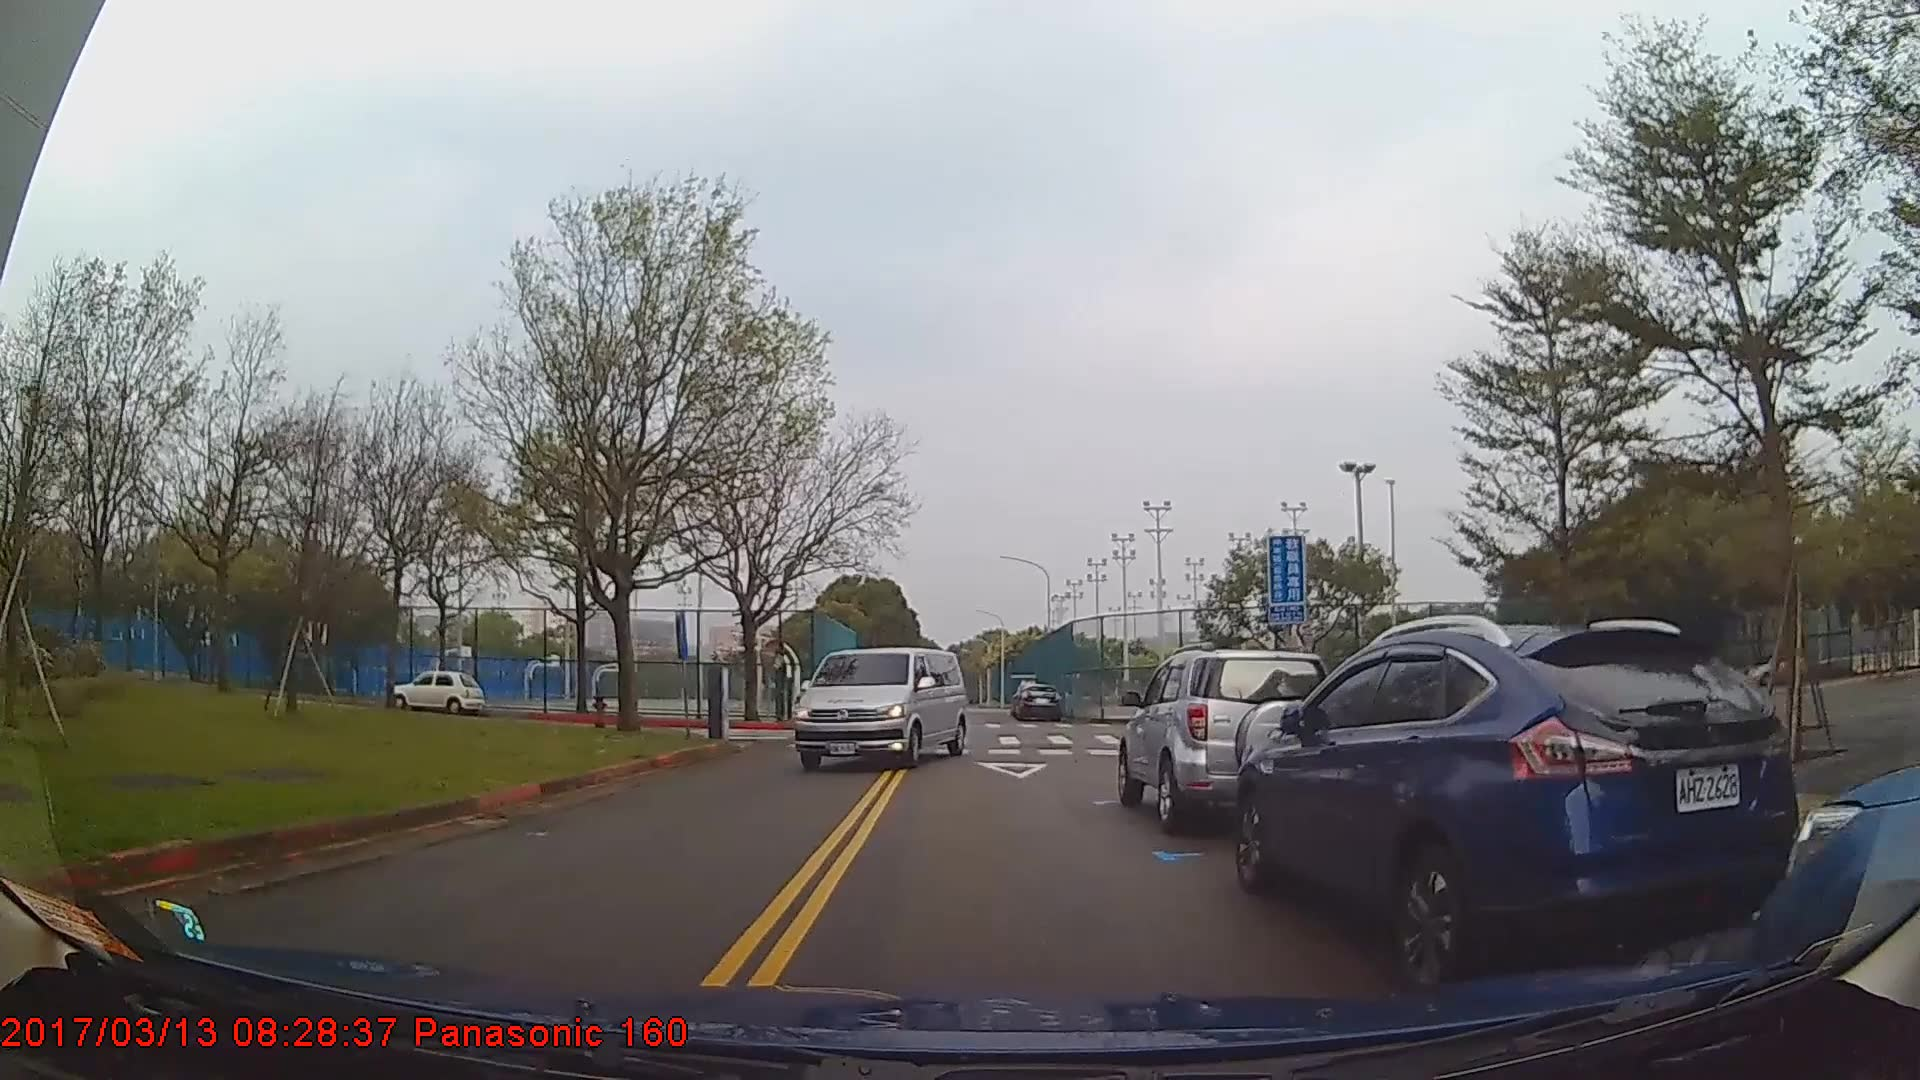vehicle: (1232, 618, 1799, 988), (1116, 645, 1340, 827), (793, 645, 965, 767), (392, 669, 485, 713), (1015, 680, 1062, 721)
